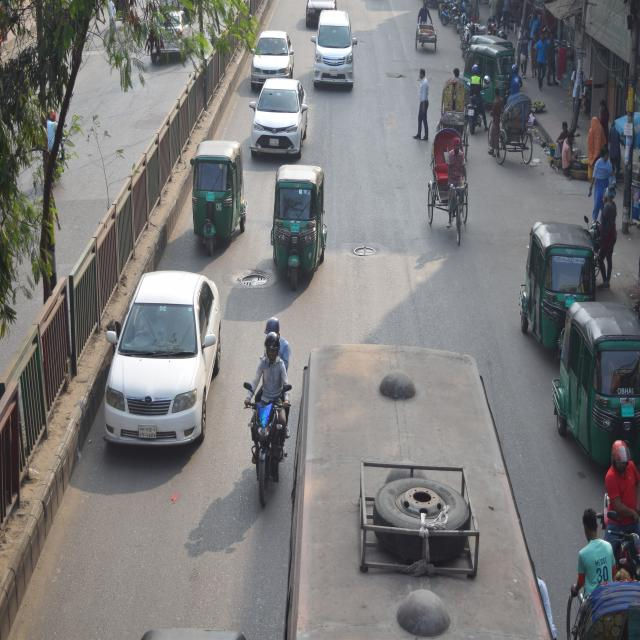bus: (288, 332, 549, 640)
car: (101, 266, 222, 469), (248, 74, 308, 159), (244, 26, 296, 84)
microbus: (310, 12, 353, 90)
motorbike: (241, 364, 288, 506), (462, 76, 488, 138), (586, 215, 612, 267), (438, 4, 468, 31)
